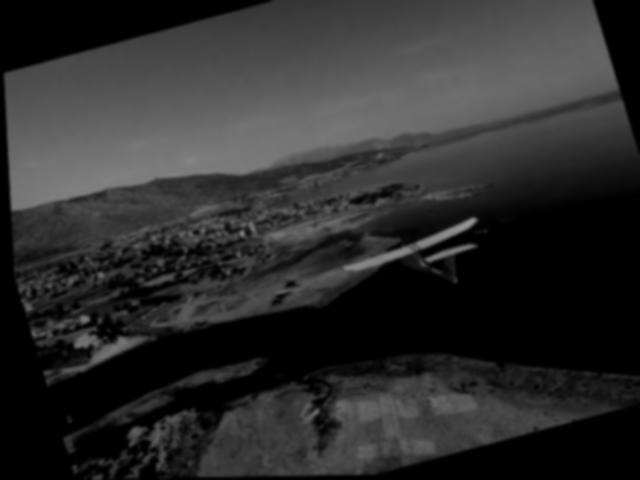hedef: (323, 209, 502, 310)
